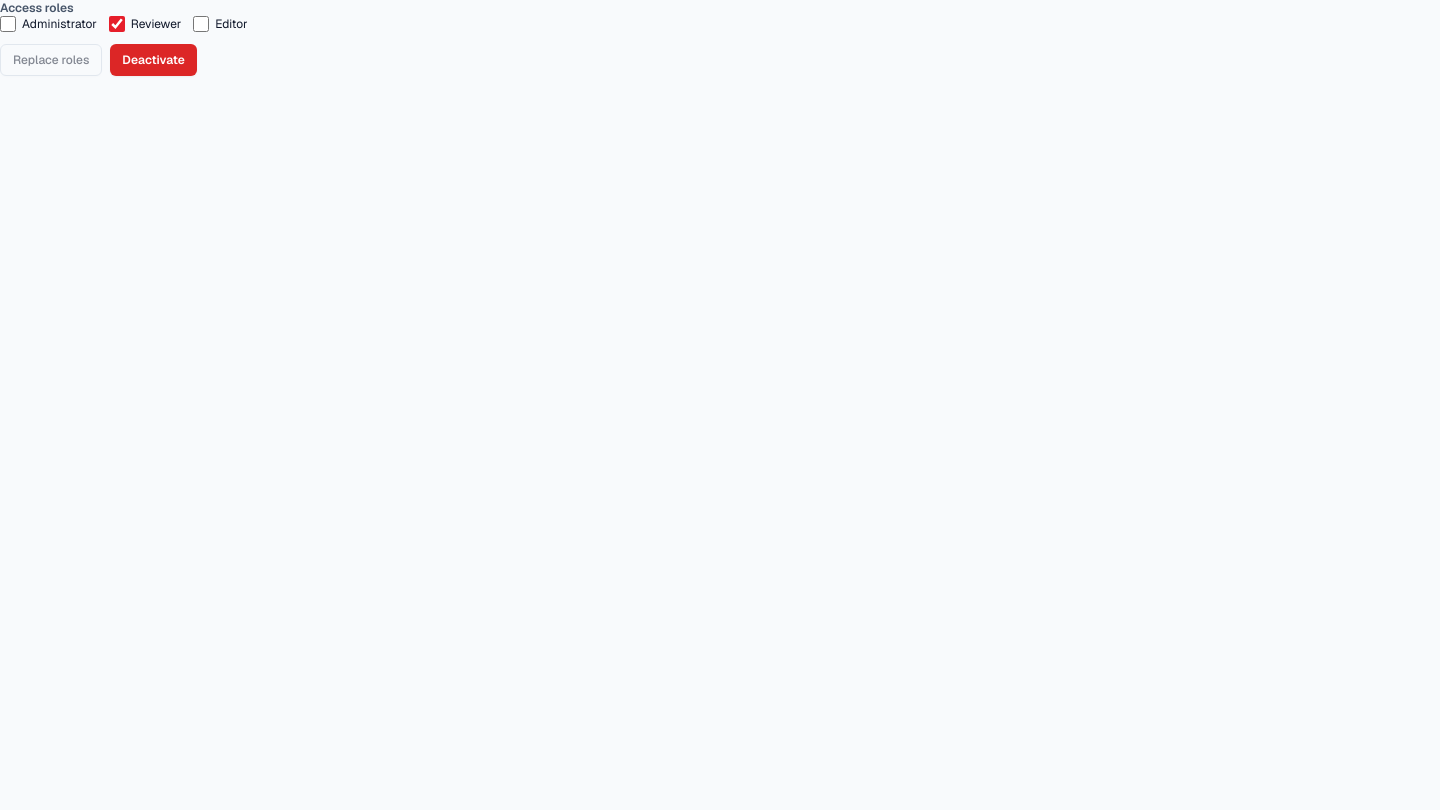
StaffLifecycleControls › requires explicit confirmation before deactivation
Click the button "Deactivate": (154, 60) x1=110 y1=44 x2=197 y2=76
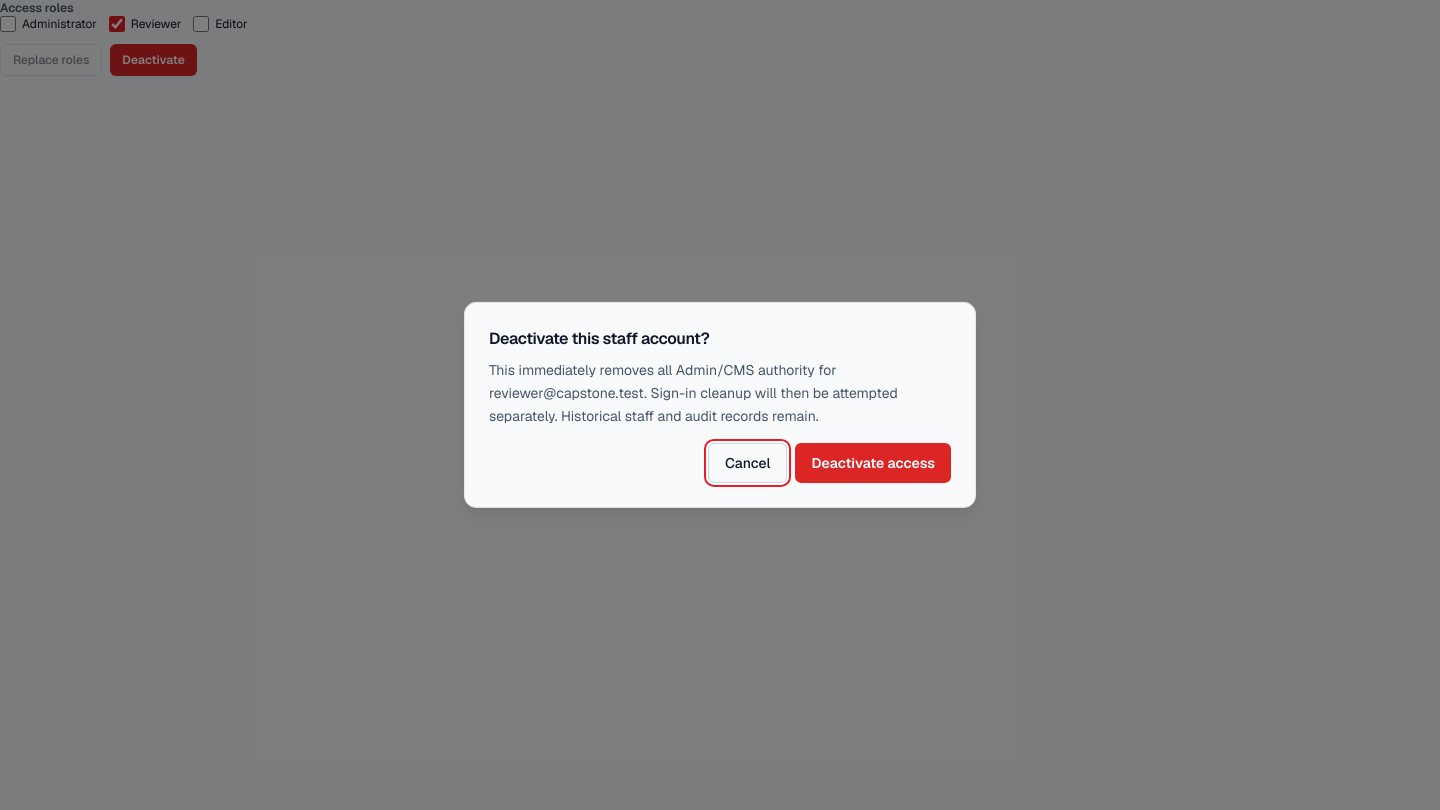
Click the button "Deactivate access": (873, 463) x1=796 y1=443 x2=951 y2=483
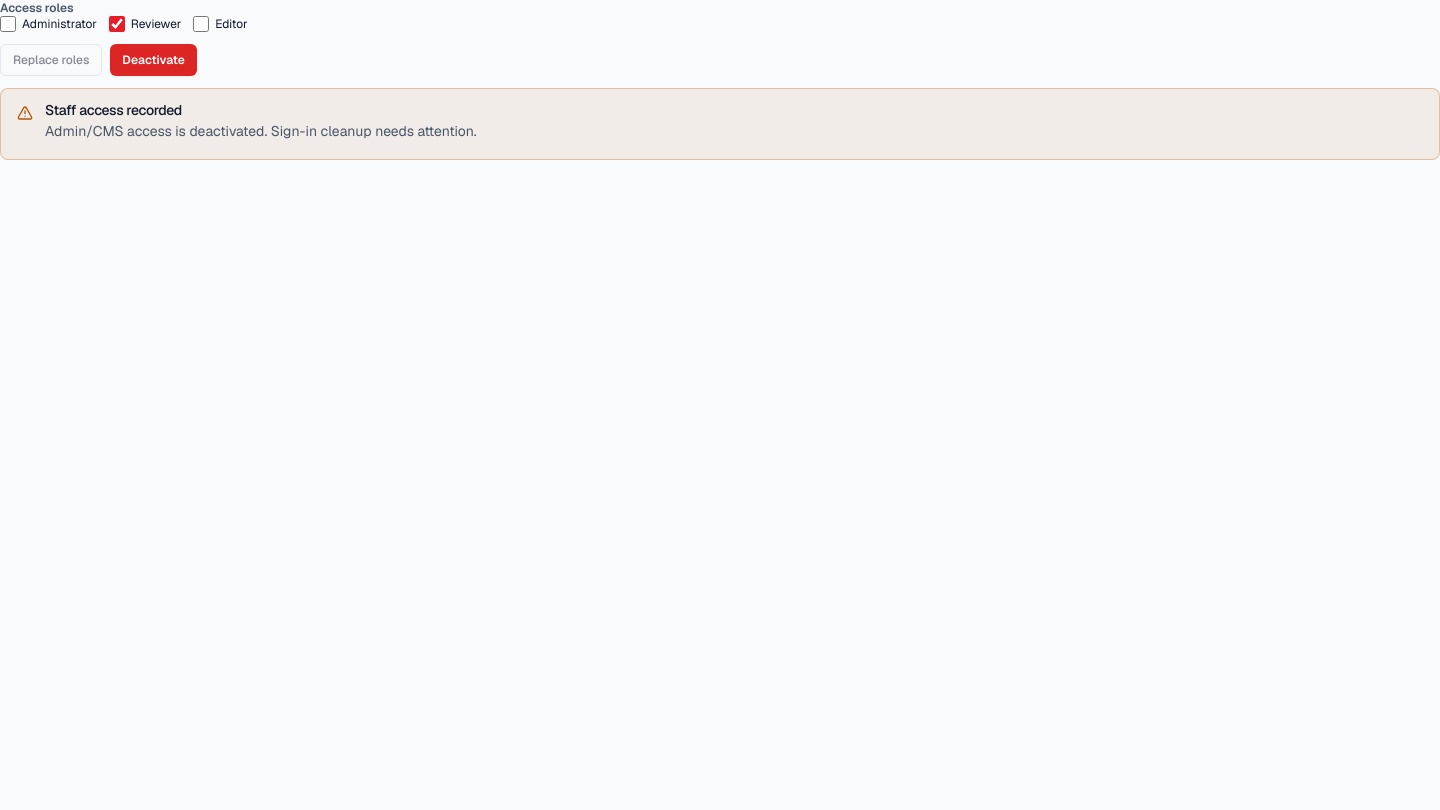
expect the text "Sign-in cleanup needs attention" is shown: met, box x1=45 y1=122 x2=477 y2=140
